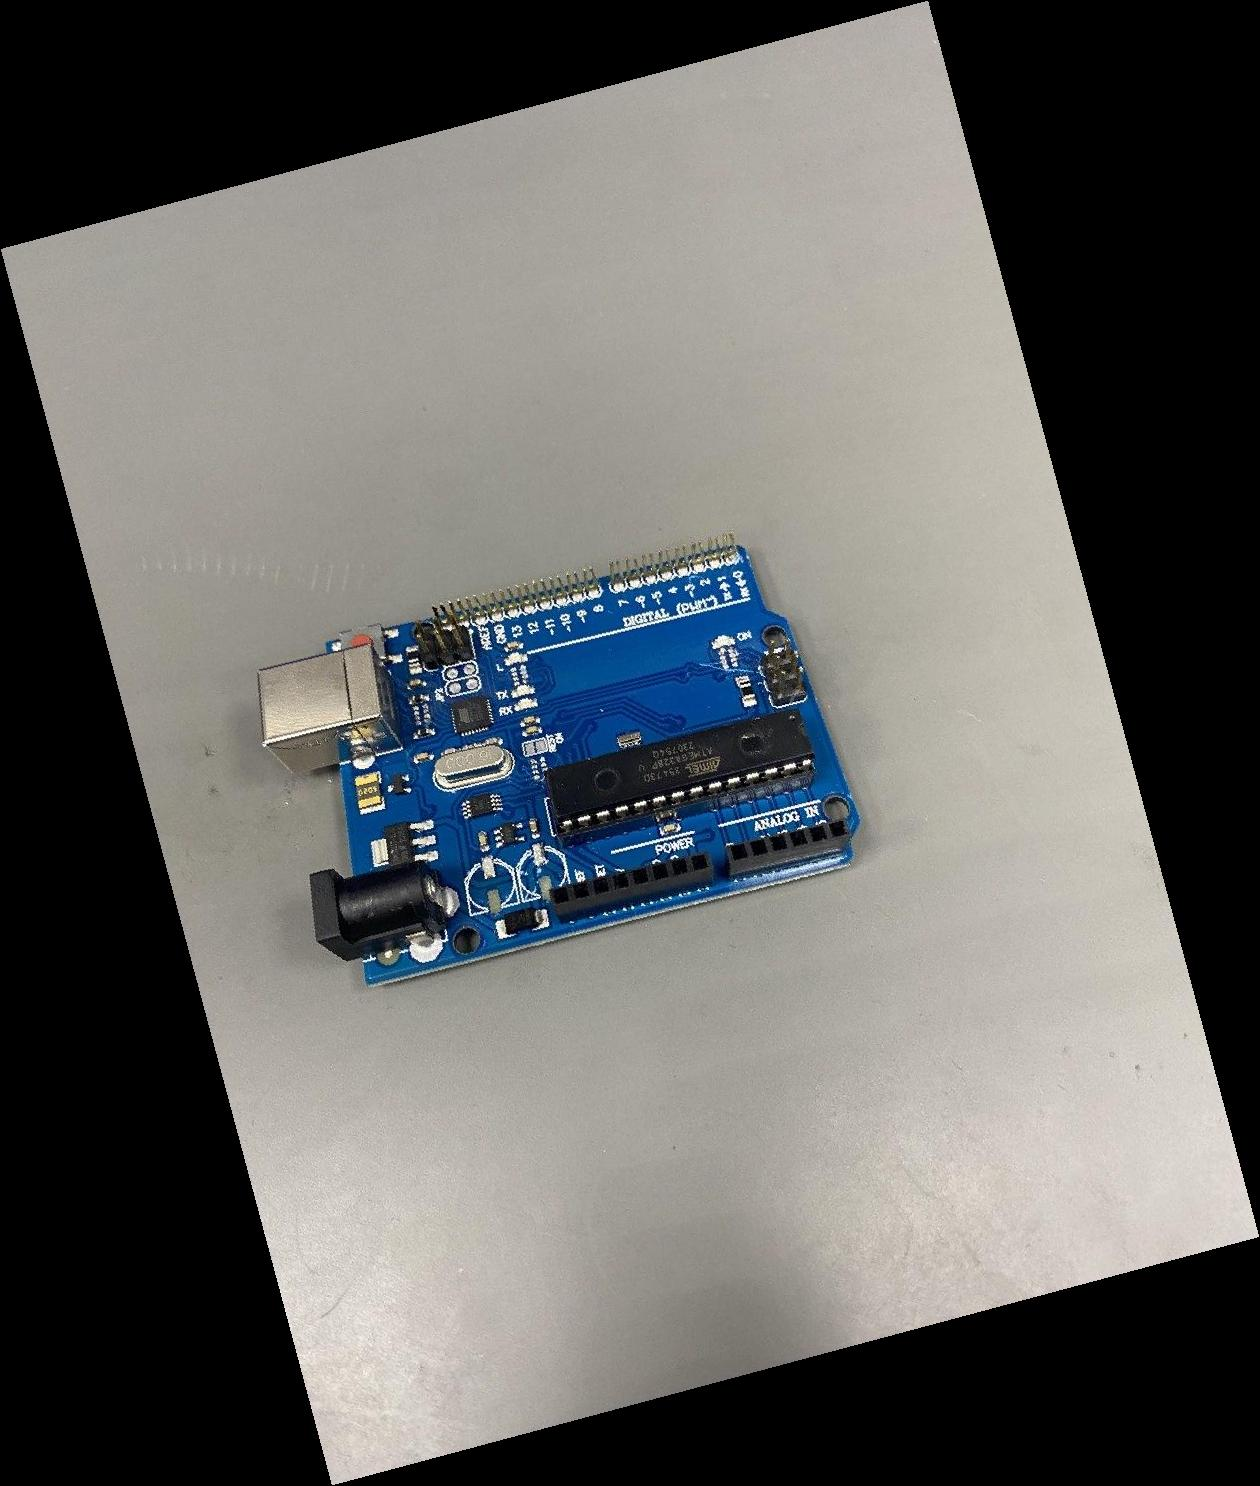ATmega328 chip: (543, 709, 816, 848)
Arduino board: (258, 532, 861, 987)
USB: (259, 644, 404, 776)
pins: (549, 851, 713, 924), (723, 819, 850, 881)
